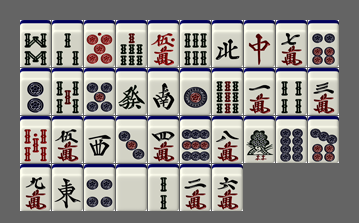0m: (148, 20, 179, 67)
0p: (84, 20, 115, 67)
0s: (20, 116, 51, 163)
1m: (244, 68, 275, 115)
1p: (180, 68, 211, 115)
1s: (244, 116, 275, 163)
1z: (52, 164, 83, 211)
2m: (180, 164, 211, 211)
2p: (20, 68, 51, 115)
2s: (148, 164, 179, 211)
2z: (148, 68, 179, 115)
3m: (308, 68, 339, 115)
3p: (116, 116, 147, 163)
3s: (52, 20, 83, 67)
3z: (84, 116, 115, 163)
4m: (148, 116, 179, 163)
4p: (84, 164, 115, 211)
4s: (276, 68, 307, 115)
4z: (212, 20, 243, 67)
5m: (52, 116, 83, 163)
5p: (84, 68, 115, 115)
5s: (52, 68, 83, 115)
5z: (116, 164, 147, 211)
6m: (212, 164, 243, 211)
6p: (308, 20, 339, 67)
6s: (180, 20, 211, 67)
6z: (116, 68, 147, 115)
7m: (276, 20, 307, 67)
7p: (308, 116, 339, 163)
7s: (116, 20, 147, 67)
7z: (244, 20, 275, 67)
8m: (212, 116, 243, 163)
8p: (276, 116, 307, 163)
8s: (20, 20, 51, 67)
9m: (20, 164, 51, 211)
9p: (180, 116, 211, 163)
9s: (212, 68, 243, 115)
